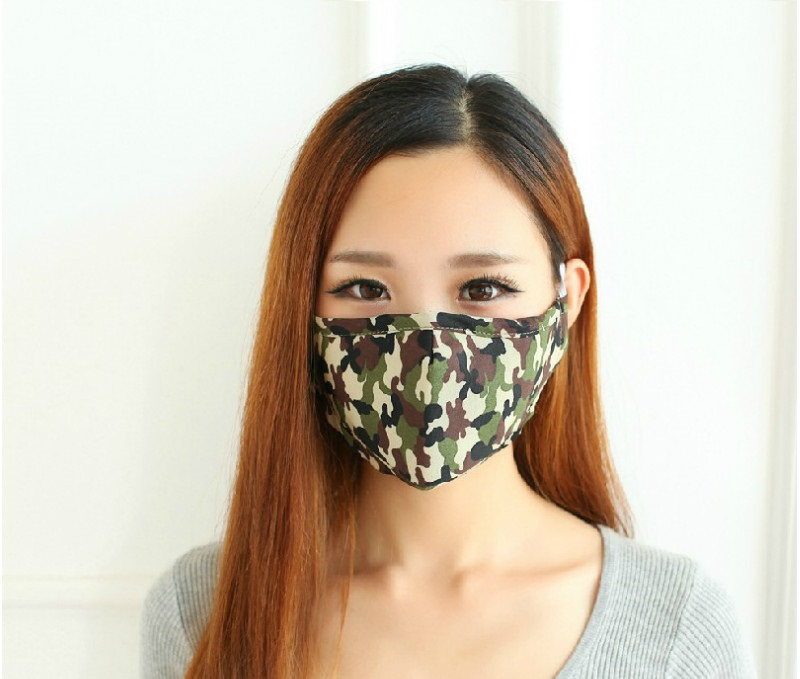face_mask: (315, 152, 549, 494)
